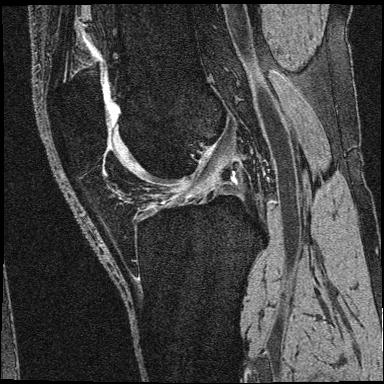SagKneeJointArea: (45, 60, 268, 293)
